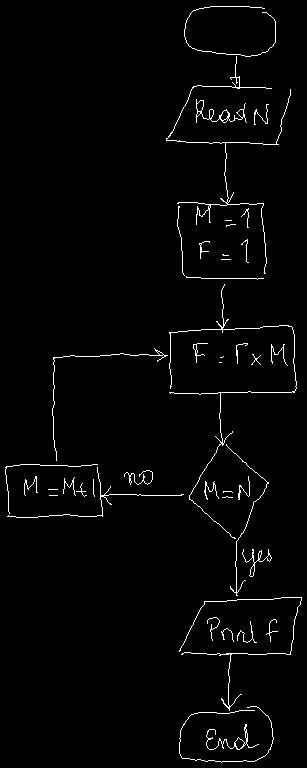arrow: (52, 348, 167, 460), (100, 486, 183, 504), (221, 654, 241, 710), (215, 392, 232, 445), (230, 540, 245, 595), (220, 143, 233, 204), (216, 284, 228, 332), (230, 56, 239, 88)
data: (166, 85, 290, 144), (179, 597, 301, 655)
decision: (189, 444, 268, 541)
process: (169, 325, 296, 394), (177, 202, 266, 279), (5, 464, 102, 517)
terminator: (179, 706, 273, 762), (184, 6, 275, 56)
text: (196, 204, 248, 262), (193, 343, 287, 365), (196, 99, 268, 124), (207, 617, 277, 642), (24, 476, 94, 496), (206, 724, 258, 749), (204, 476, 249, 499), (242, 549, 271, 576), (124, 470, 152, 484)
